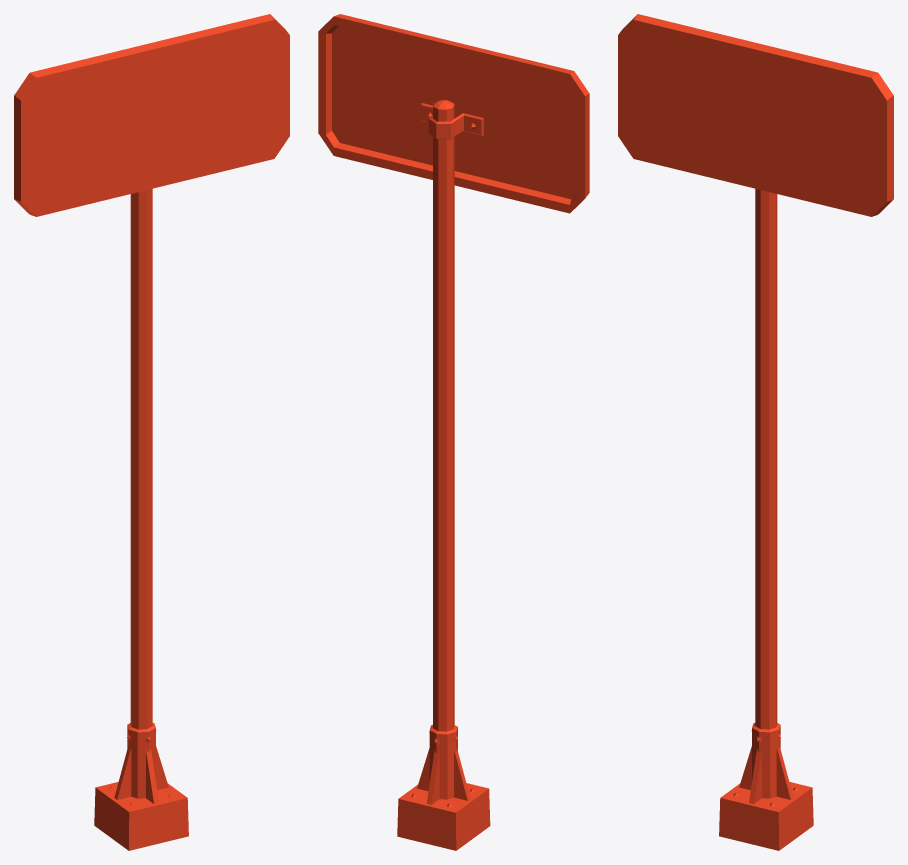
File: SM_Sign_Directional_B_City.fbx
The picture shows the model from 3 angles, left to right: view 1: azimuth 30°, elevation 25°; view 2: azimuth 150°, elevation 25°; view 3: azimuth 330°, elevation 25°; orthographic projection.
Visible parts, largest first — view 1: SM_Sign_Directional_B_City; view 2: SM_Sign_Directional_B_City; view 3: SM_Sign_Directional_B_City.
Boxes of the visible parts, box(x1,y1,x2,y2) form: SM_Sign_Directional_B_City: box(14, 14, 289, 850); SM_Sign_Directional_B_City: box(318, 14, 589, 850); SM_Sign_Directional_B_City: box(618, 14, 893, 850).
Size of the model in its own units: 0.8311 by 2.32 by 0.1839.
